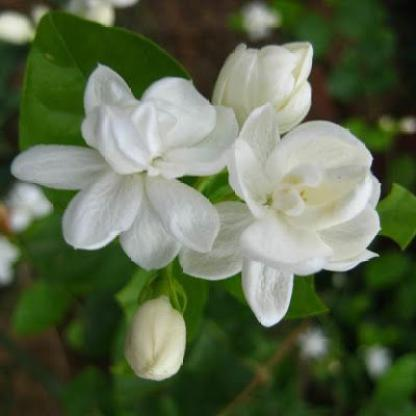Melati: (40, 51, 232, 260), (247, 70, 381, 315)
